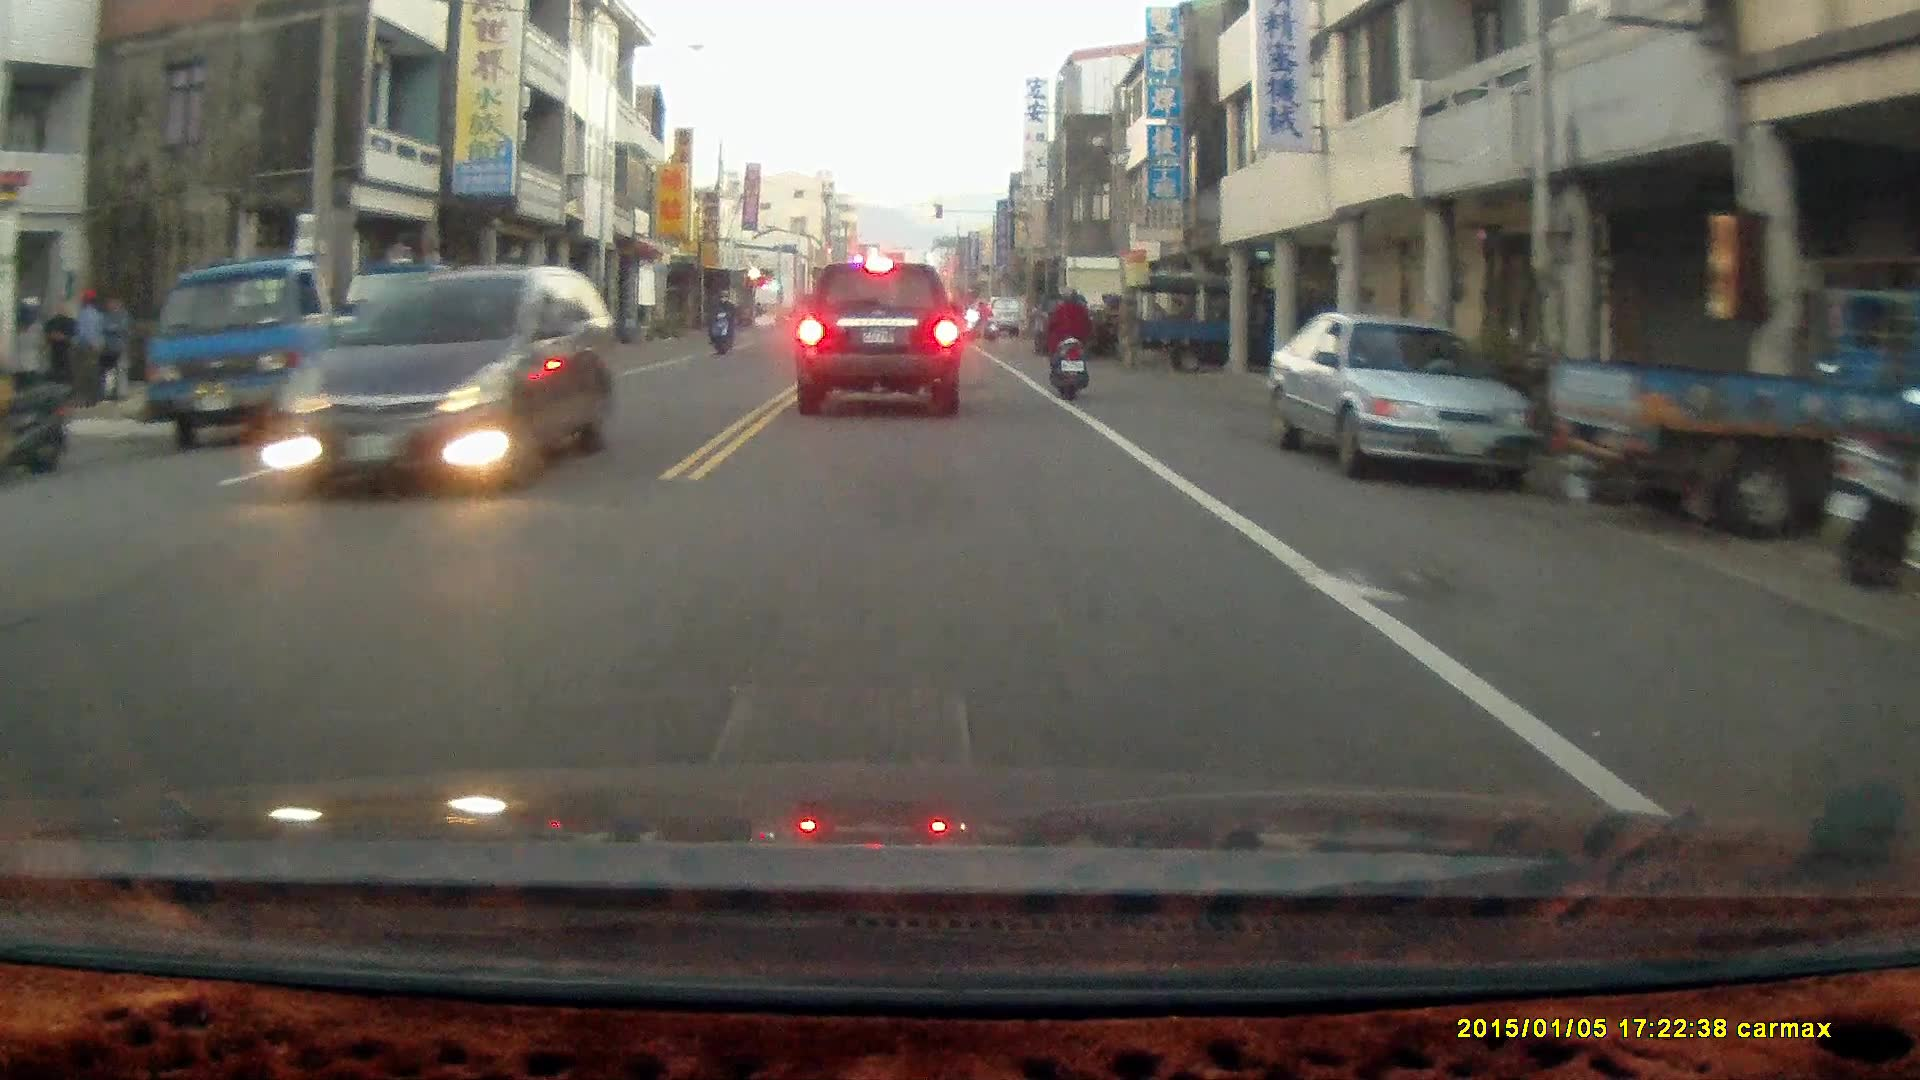pedestrian: (8, 295, 46, 420), (71, 287, 105, 410), (95, 292, 129, 406), (42, 298, 78, 401)
rider: (1044, 284, 1092, 401), (706, 293, 738, 357), (964, 299, 1000, 344)
vehicle: (1556, 275, 1920, 536), (272, 264, 621, 493), (150, 255, 401, 447), (1267, 313, 1539, 484), (794, 261, 964, 426), (1131, 274, 1329, 373)
